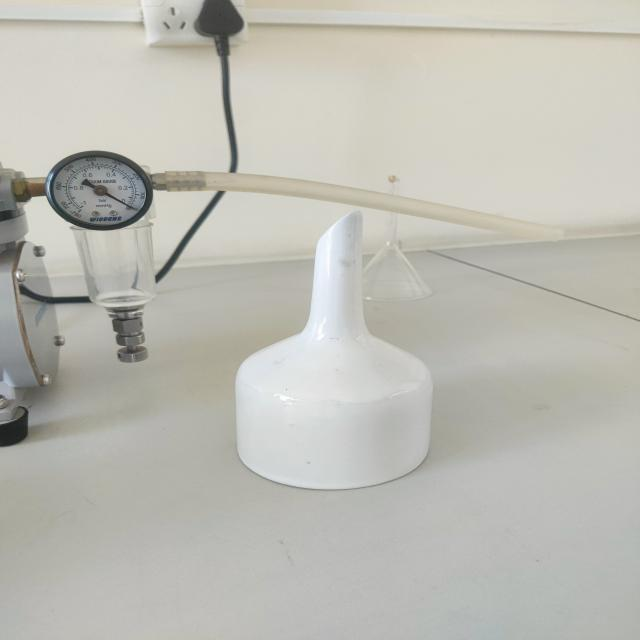Buchner_Funnel: (212, 182, 464, 502)
